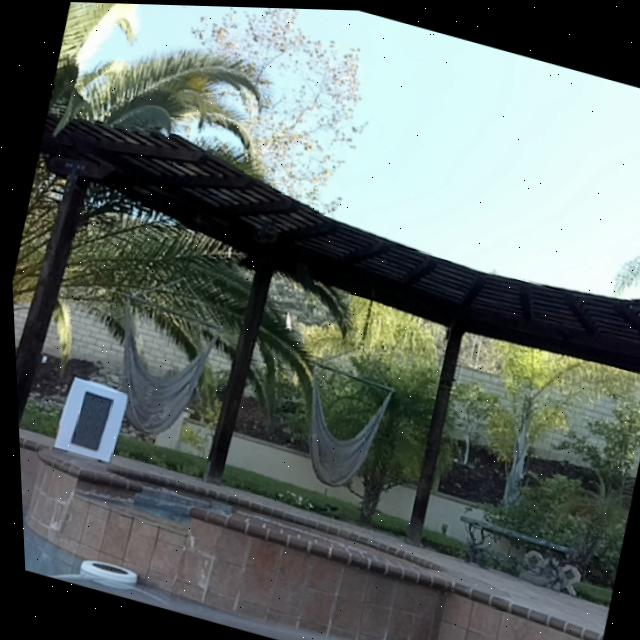led: (68, 390, 114, 456)
